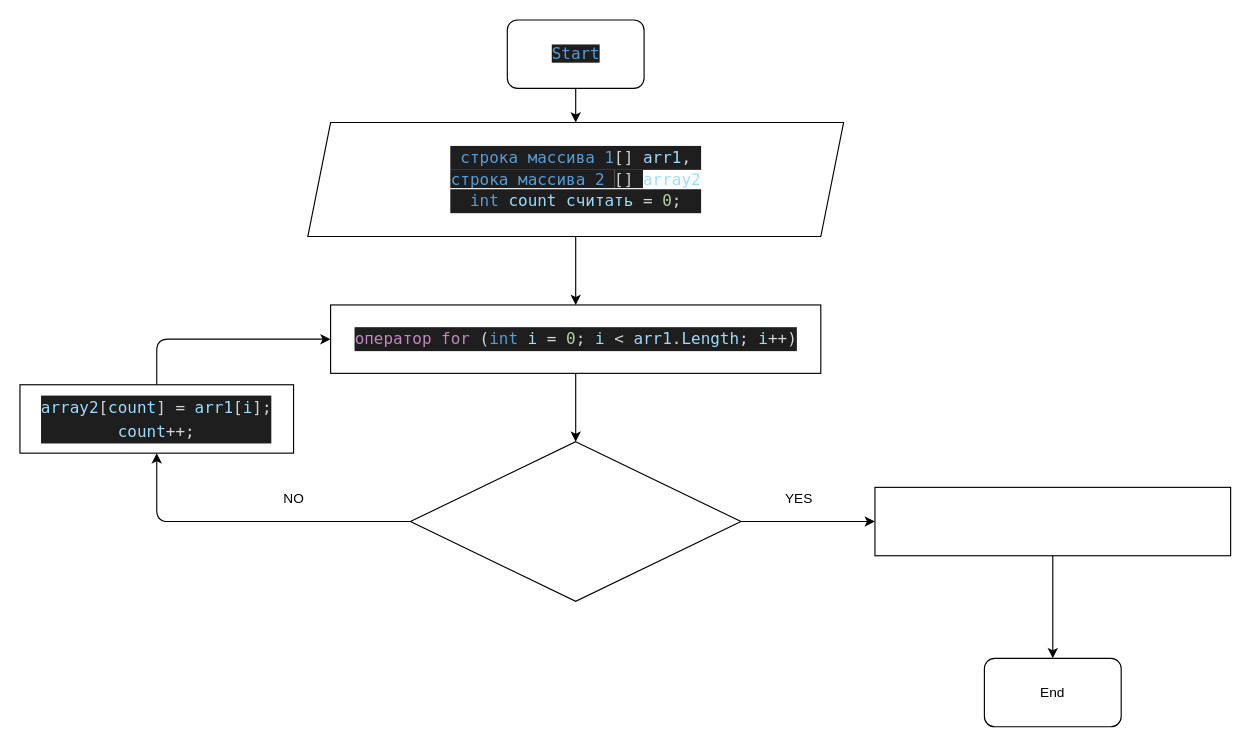
Image size: 1251x747. Some labels were removed from this diagram. The shapes that lost their labels are listed below. From the top down, each one's box as (x1, y1, x2, y2) in pixels, then its label:
(409, 441, 741, 601): если if ( arr1 [ i ]. Length <= 3 )
(874, 486, 1231, 556): Console . Write ( $" { array [ i ]} " )
